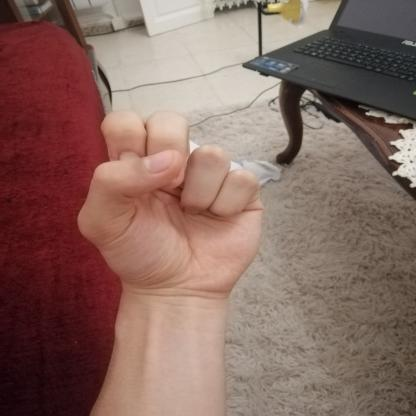QAAF: (62, 100, 281, 306)
